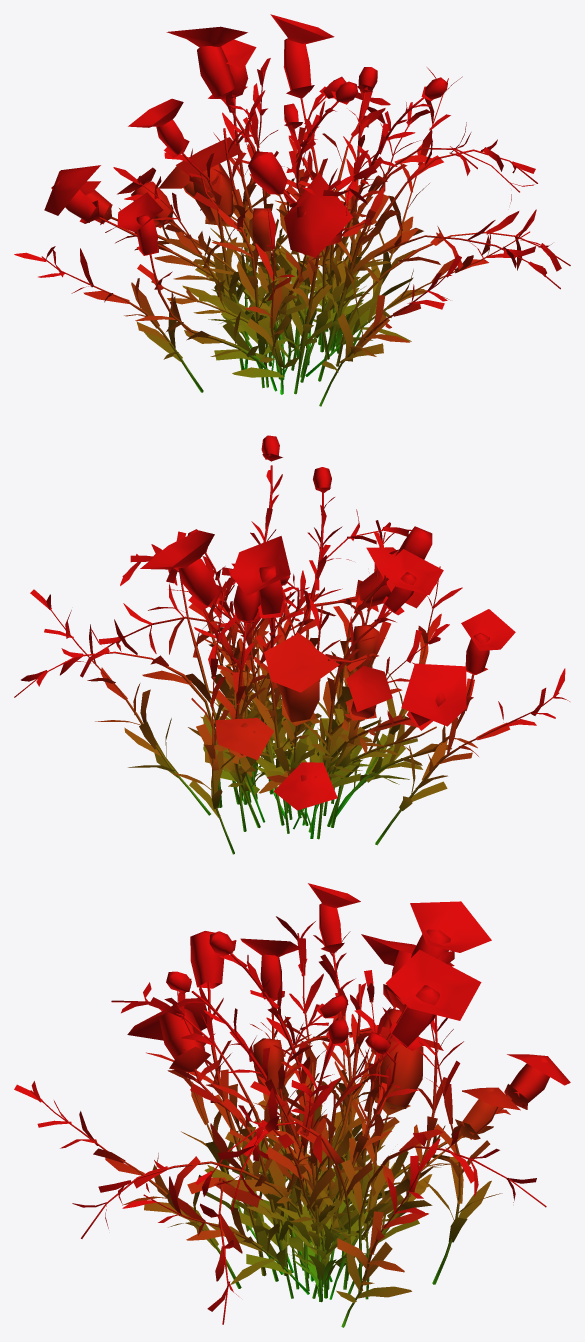
Rendered from Var9_LOD2.fbx.
The picture shows the model from 3 angles, top to bottom: view 1: azimuth 30°, elevation 25°; view 2: azimuth 150°, elevation 25°; view 3: azimuth 270°, elevation 25°; orthographic projection. The views are drawn at different scales.
Visible parts, largest first — view 1: _f7qn_Var9_LOD2; view 2: _f7qn_Var9_LOD2; view 3: _f7qn_Var9_LOD2.
Part boxes in pixels (<box>): _f7qn_Var9_LOD2: <box>14,14,570,406</box>; _f7qn_Var9_LOD2: <box>14,435,569,854</box>; _f7qn_Var9_LOD2: <box>14,883,570,1327</box>.
Size of the model in its own units: 46.4 by 28.41 by 38.51.
